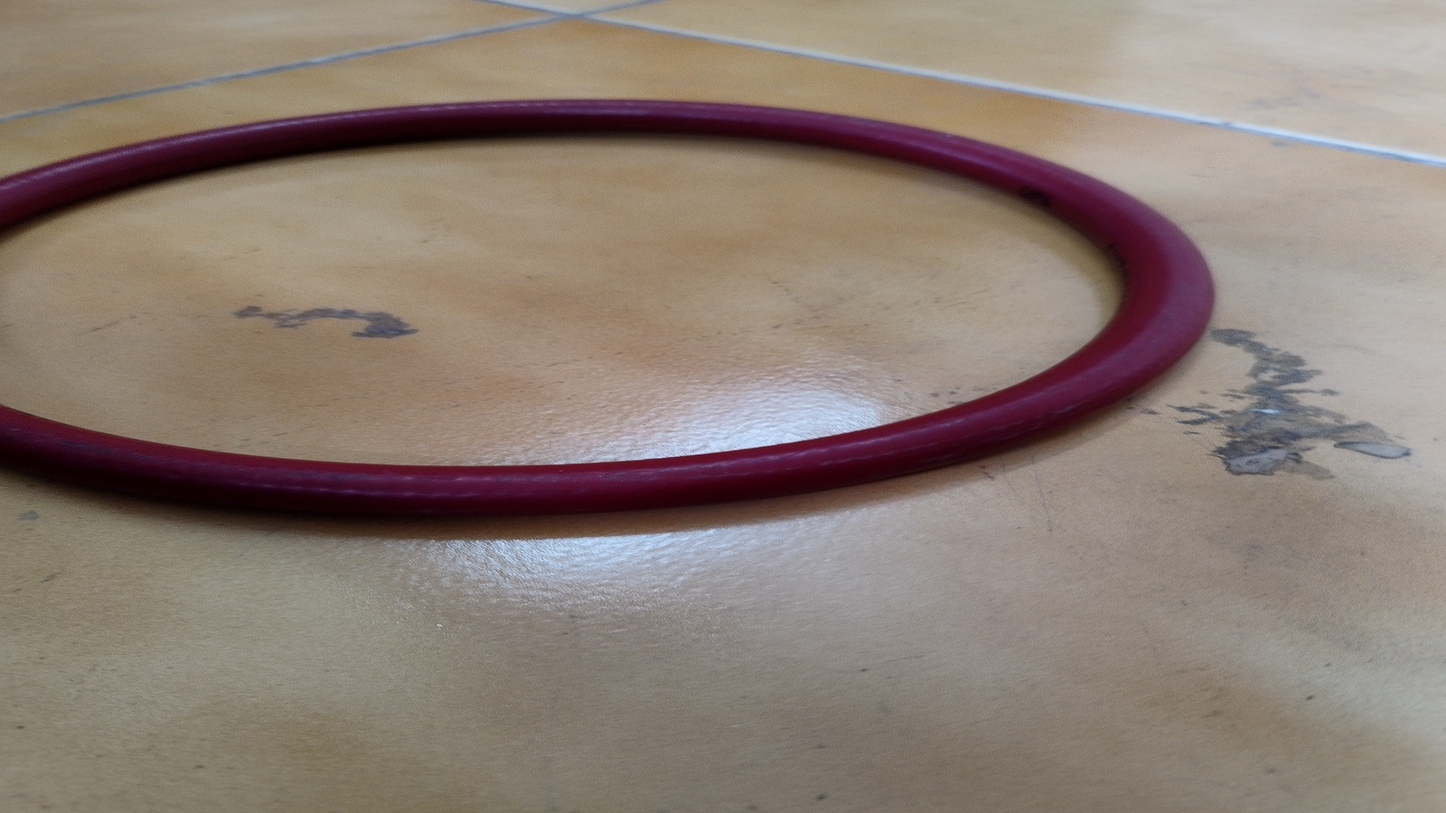Red ring: (2, 101, 1210, 505)
